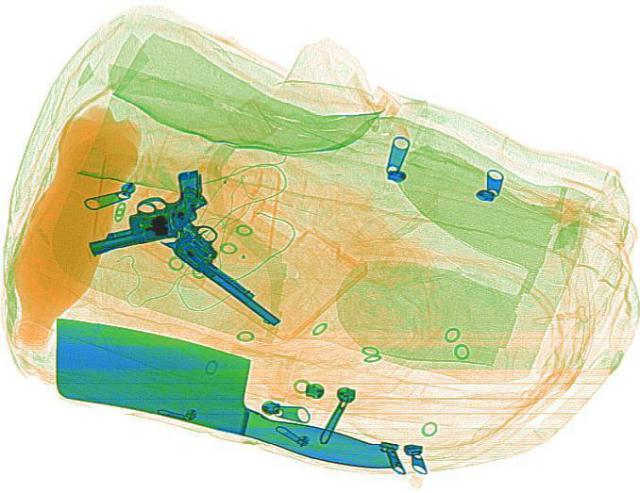Gun: (148, 206, 304, 333), (62, 166, 234, 267)
Knife: (19, 307, 428, 476)
